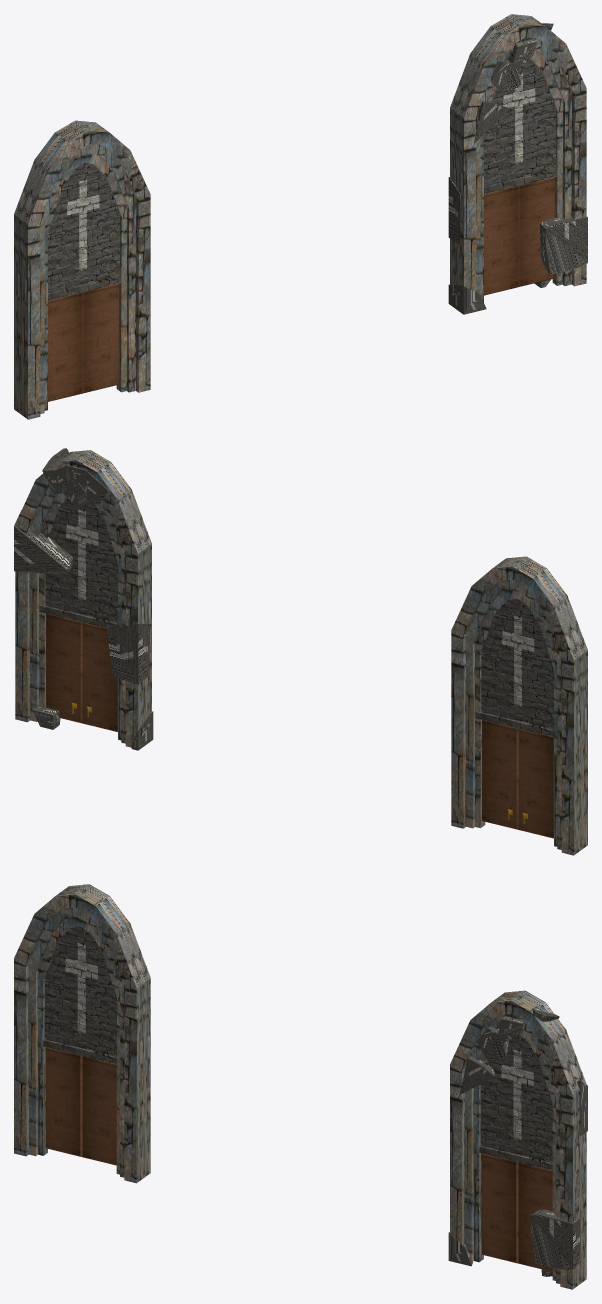
Rendered from Door Breakable.fbx.
The picture shows the model from 3 angles, top to bottom: view 1: azimuth 30°, elevation 25°; view 2: azimuth 150°, elevation 25°; view 3: azimuth 330°, elevation 25°; orthographic projection.
Visible parts, largest first — view 1: Enternce brik.001, DoorArk.000, Enternce brik.000, DoorArk001.000, DoorL.000, DoorR.000, DoorArk002.000, Enternce brik.001_cell.012, Enternce brik.001_cell.148, Enternce brik.001_cell.169, Enternce brik.001_cell.035, Enternce brik.001_cell.055 (+11 smaller); view 2: Enternce brik.001, DoorArk.000, Enternce brik.000, DoorArk001.000, DoorL.000, DoorR.000, DoorArk002.000, Enternce brik.001_cell.085, Enternce brik.001_cell.023, Enternce brik.001_cell.082, Enternce brik.001_cell.063, Enternce brik.001_cell.133 (+3 smaller); view 3: Enternce brik.001, DoorArk.000, Enternce brik.000, DoorArk001.000, DoorR.000, DoorL.000, DoorArk002.000, Enternce brik.001_cell.012, Enternce brik.001_cell.148, Enternce brik.001_cell.169, Enternce brik.001_cell.106, Enternce brik.001_cell.055 (+11 smaller).
Part boxes in pixels (x1=…): Enternce brik.001: x1=450, y1=14, x2=586, y2=302; DoorArk.000: x1=14, y1=120, x2=150, y2=419; Enternce brik.000: x1=48, y1=163, x2=121, y2=300; DoorArk001.000: x1=40, y1=143, x2=136, y2=413; DoorL.000: x1=82, y1=283, x2=119, y2=393; DoorR.000: x1=48, y1=292, x2=82, y2=401; DoorArk002.000: x1=44, y1=153, x2=126, y2=410; Enternce brik.001_cell.012: x1=540, y1=216, x2=587, y2=274; Enternce brik.001_cell.148: x1=483, y1=106, x2=529, y2=156; Enternce brik.001_cell.169: x1=519, y1=64, x2=549, y2=120; Enternce brik.001_cell.035: x1=536, y1=131, x2=562, y2=173; Enternce brik.001_cell.055: x1=568, y1=71, x2=586, y2=135; Enternce brik.001: x1=15, y1=450, x2=151, y2=747; DoorArk.000: x1=451, y1=556, x2=587, y2=855; Enternce brik.000: x1=475, y1=598, x2=557, y2=737; DoorArk001.000: x1=465, y1=579, x2=561, y2=849; DoorL.000: x1=482, y1=720, x2=518, y2=829; DoorR.000: x1=518, y1=729, x2=553, y2=838; DoorArk002.000: x1=475, y1=589, x2=557, y2=846; Enternce brik.001_cell.085: x1=107, y1=624, x2=149, y2=684; Enternce brik.001_cell.023: x1=14, y1=510, x2=73, y2=574; Enternce brik.001_cell.082: x1=103, y1=668, x2=117, y2=722; Enternce brik.001_cell.063: x1=96, y1=588, x2=121, y2=627; Enternce brik.001_cell.133: x1=15, y1=652, x2=29, y2=699; Enternce brik.001: x1=450, y1=991, x2=586, y2=1289; DoorArk.000: x1=14, y1=884, x2=150, y2=1183; Enternce brik.000: x1=43, y1=926, x2=116, y2=1064; DoorArk001.000: x1=28, y1=907, x2=124, y2=1177; DoorR.000: x1=45, y1=1047, x2=82, y2=1156; DoorL.000: x1=82, y1=1056, x2=116, y2=1165; DoorArk002.000: x1=37, y1=917, x2=120, y2=1174; Enternce brik.001_cell.012: x1=530, y1=1209, x2=580, y2=1269; Enternce brik.001_cell.148: x1=480, y1=1071, x2=527, y2=1121; Enternce brik.001_cell.169: x1=517, y1=1049, x2=546, y2=1101; Enternce brik.001_cell.106: x1=556, y1=1174, x2=584, y2=1223; Enternce brik.001_cell.055: x1=554, y1=1074, x2=572, y2=1141.
Size of the model in its own units: 3420 by 1605 by 160.
